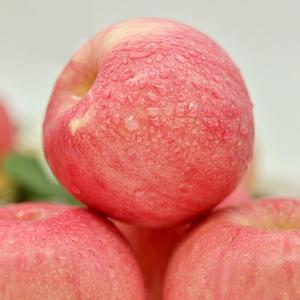apple: (34, 17, 260, 234)
